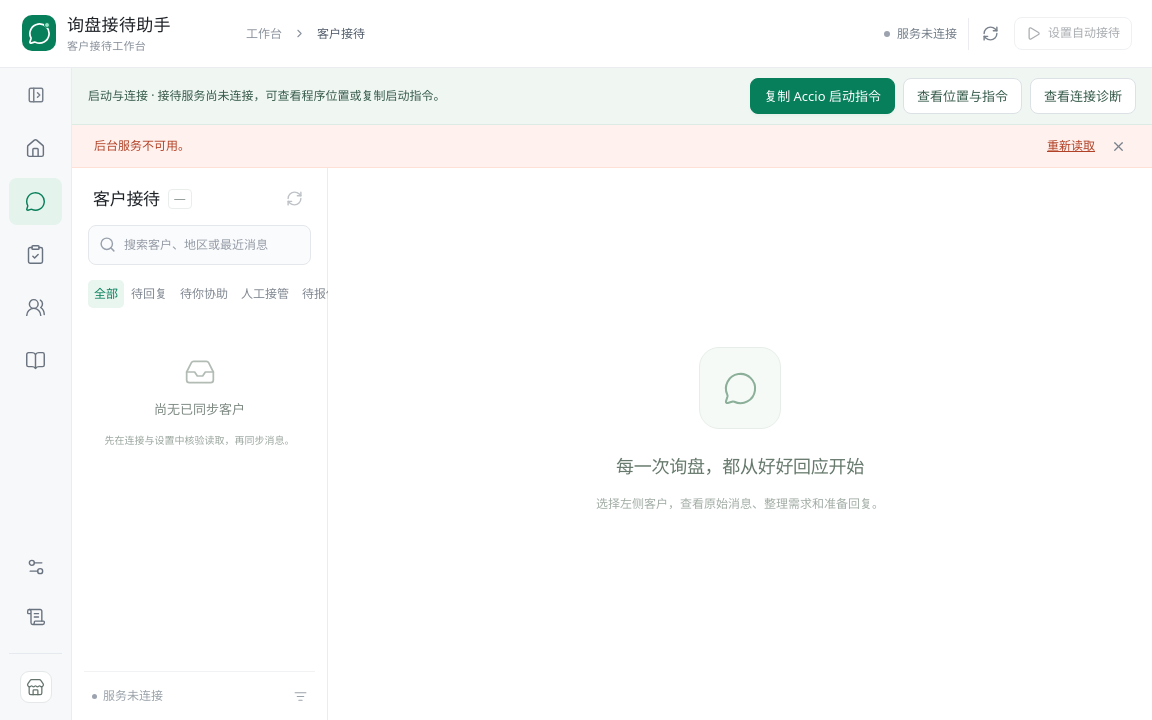
Test: launch recovery without a backend snapshot › opens local storage diagnostics even though the business backend cannot start
This screenshot has width=1152, height=720.
Click the button "查看连接诊断": coordinates (1083, 96) [1030,78,1136,114]
(page scrolled)
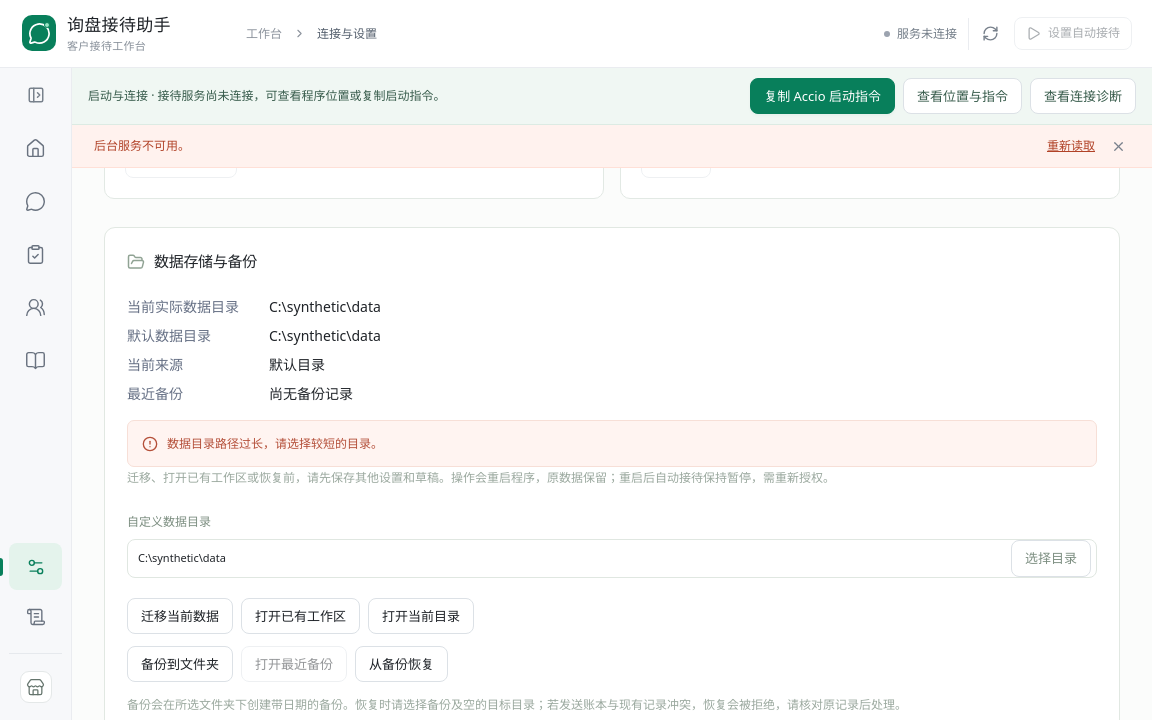
Expected: the text "数据目录路径过长，请选择较短的目录。" is shown, [167,435,383,452]
